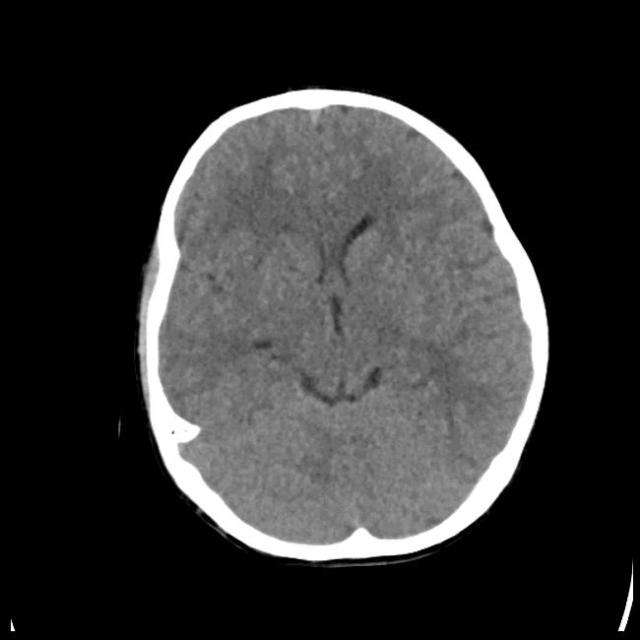lesion: (134, 87, 550, 564)
